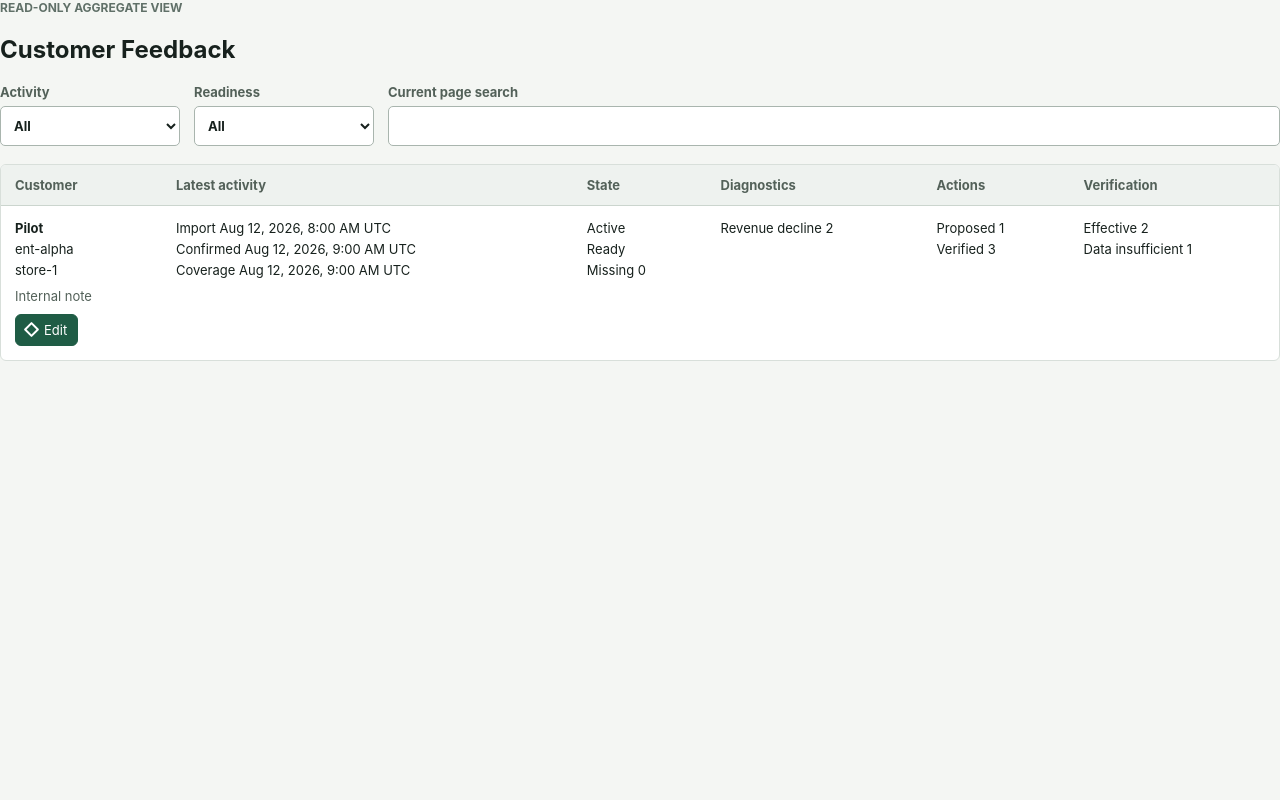
it: read-only feedback workbench › replaces the displayed metadata with the normalized save result
Click the button with aria-label "Edit customer details". click: [47, 330]
box: 15,314 -> 78,346
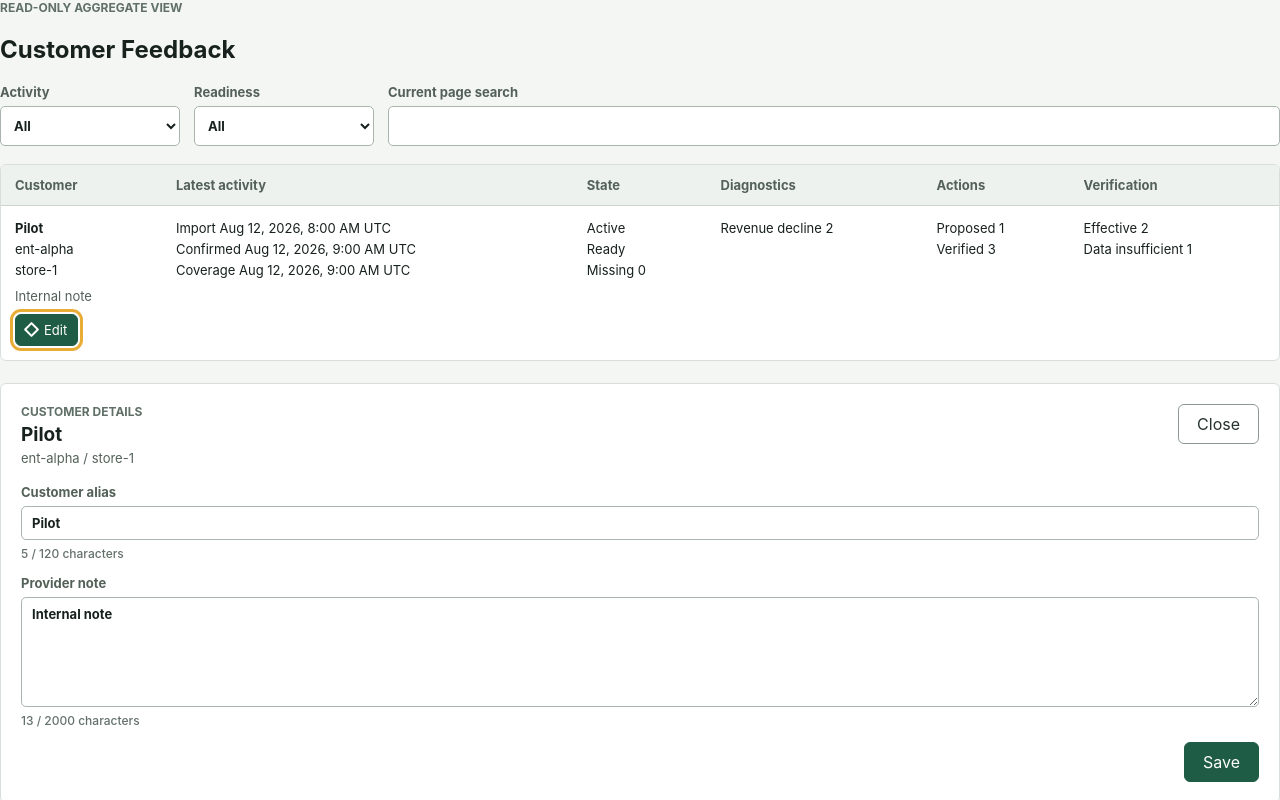
Click the button "Save". click: [1222, 762]
box: 1184,742 -> 1259,782
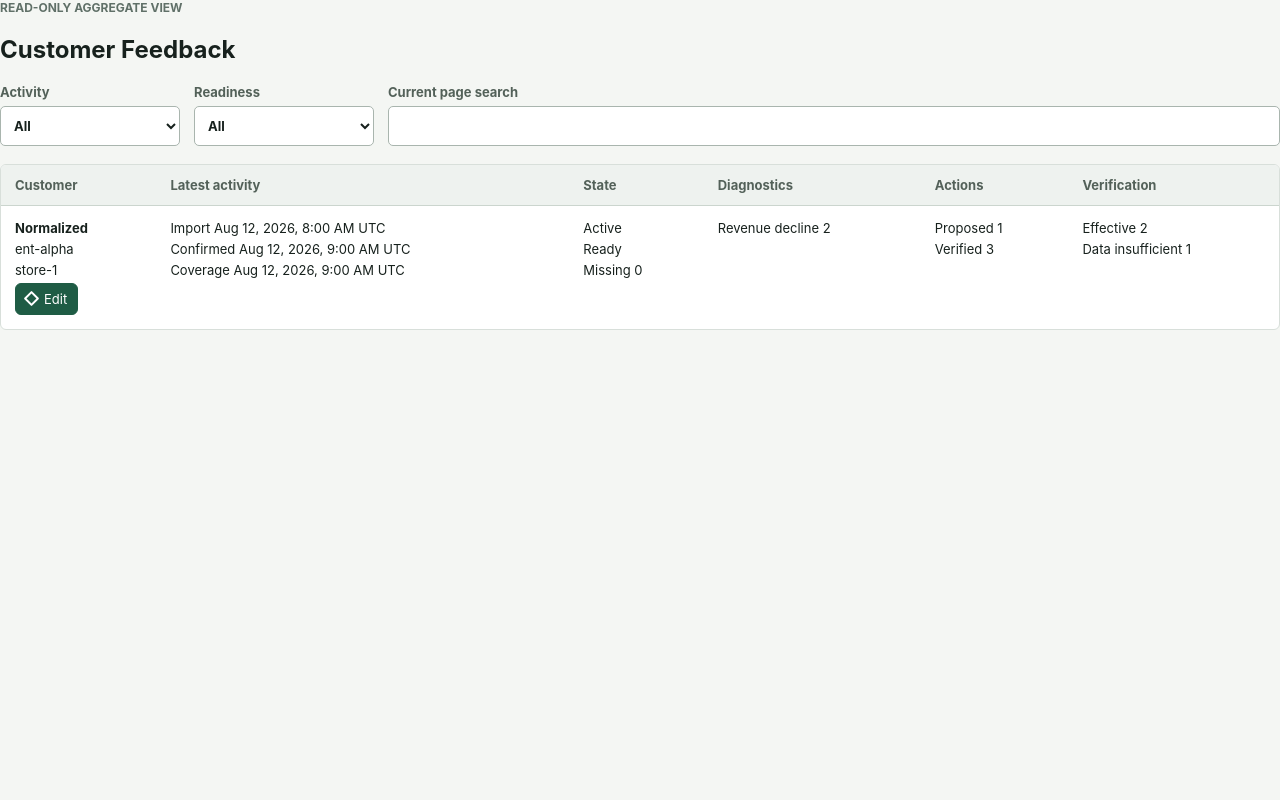
Check: the text "Normalized" is shown, box 15,220 -> 88,236
Check: the text "Internal note" is gone
